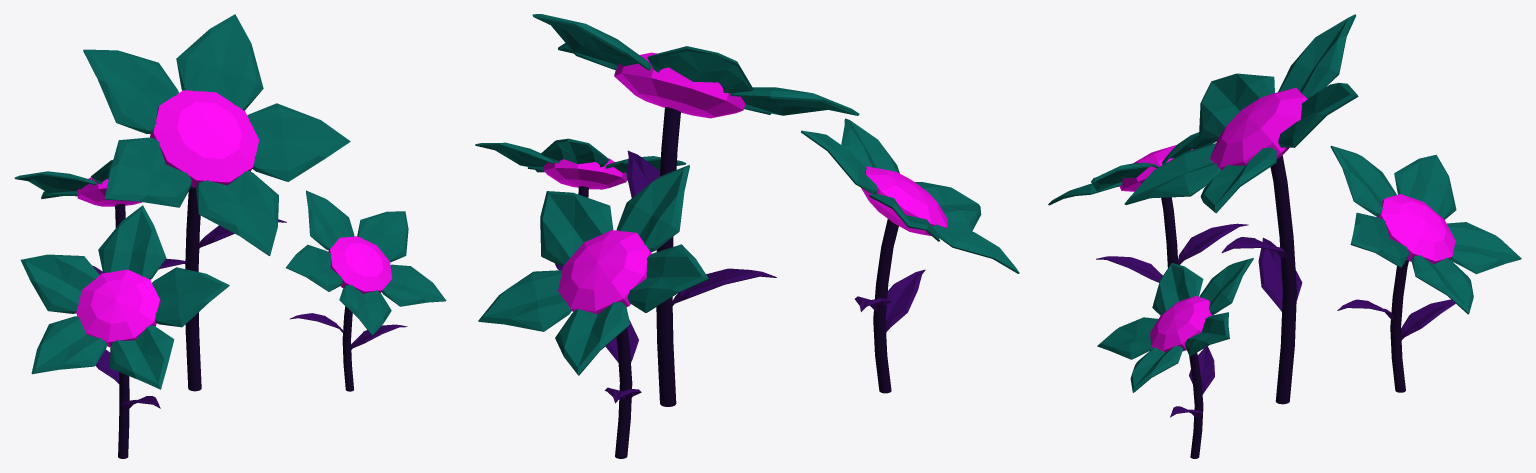
The model's file is FlowerCluster_1.fbx.
The picture shows the model from 3 angles, left to right: view 1: azimuth 30°, elevation 25°; view 2: azimuth 150°, elevation 25°; view 3: azimuth 270°, elevation 25°; orthographic projection. The views are drawn at different scales.
Parts seen in each view (by area): view 1: FlowerCluster_1; view 2: FlowerCluster_1; view 3: FlowerCluster_1.
Boxes of the visible parts, x1,y1,x2,y2 form: FlowerCluster_1: (14, 14, 446, 458); FlowerCluster_1: (475, 14, 1019, 458); FlowerCluster_1: (1048, 14, 1521, 458).
Bounding box in the file's own units: 85.57 × 65.93 × 81.38.
